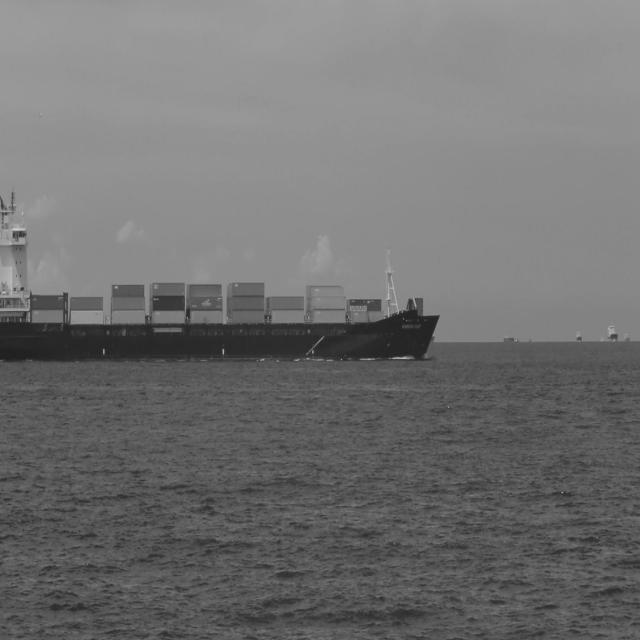ship: (0, 248, 441, 362), (427, 327, 438, 342)
